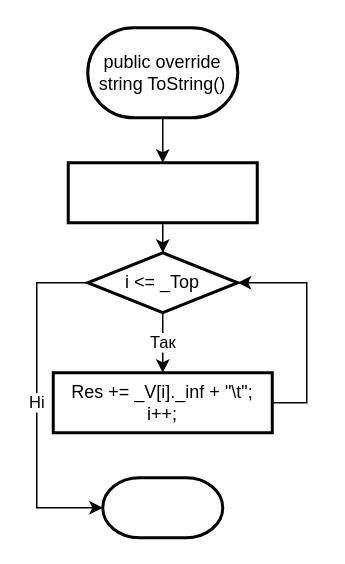
Some shapes in this 345 by 564 pixel diagram are drawn without their labels. Here are the shapes that lost their labels. From the top down, the centre of each, then its label:
the point at 162,192: string Res = ""; i = 0;
the point at 162,507: return Res;
